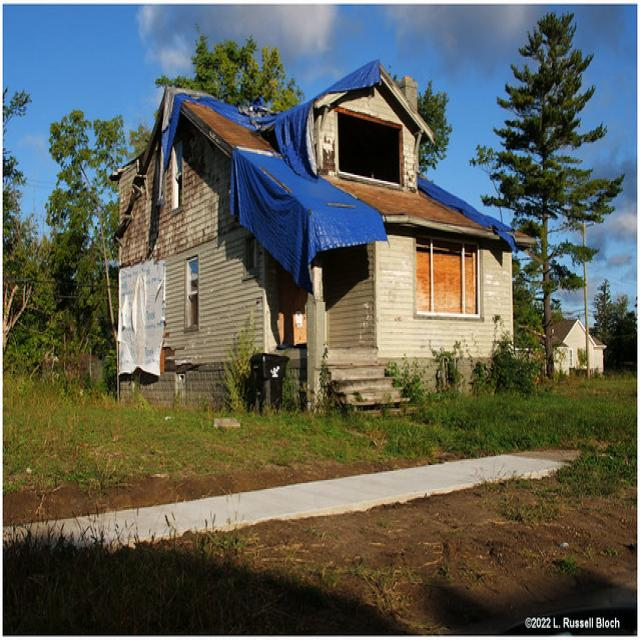building: (101, 58, 521, 414)
